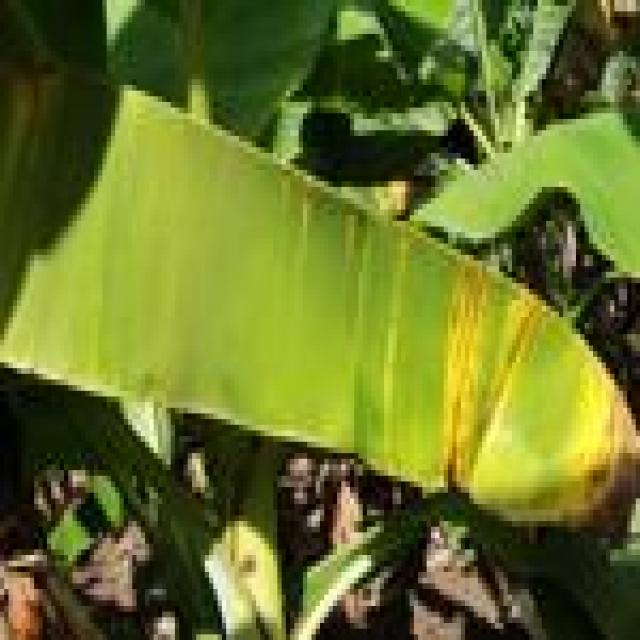Early_rust: (369, 179, 640, 576), (0, 22, 103, 159)
